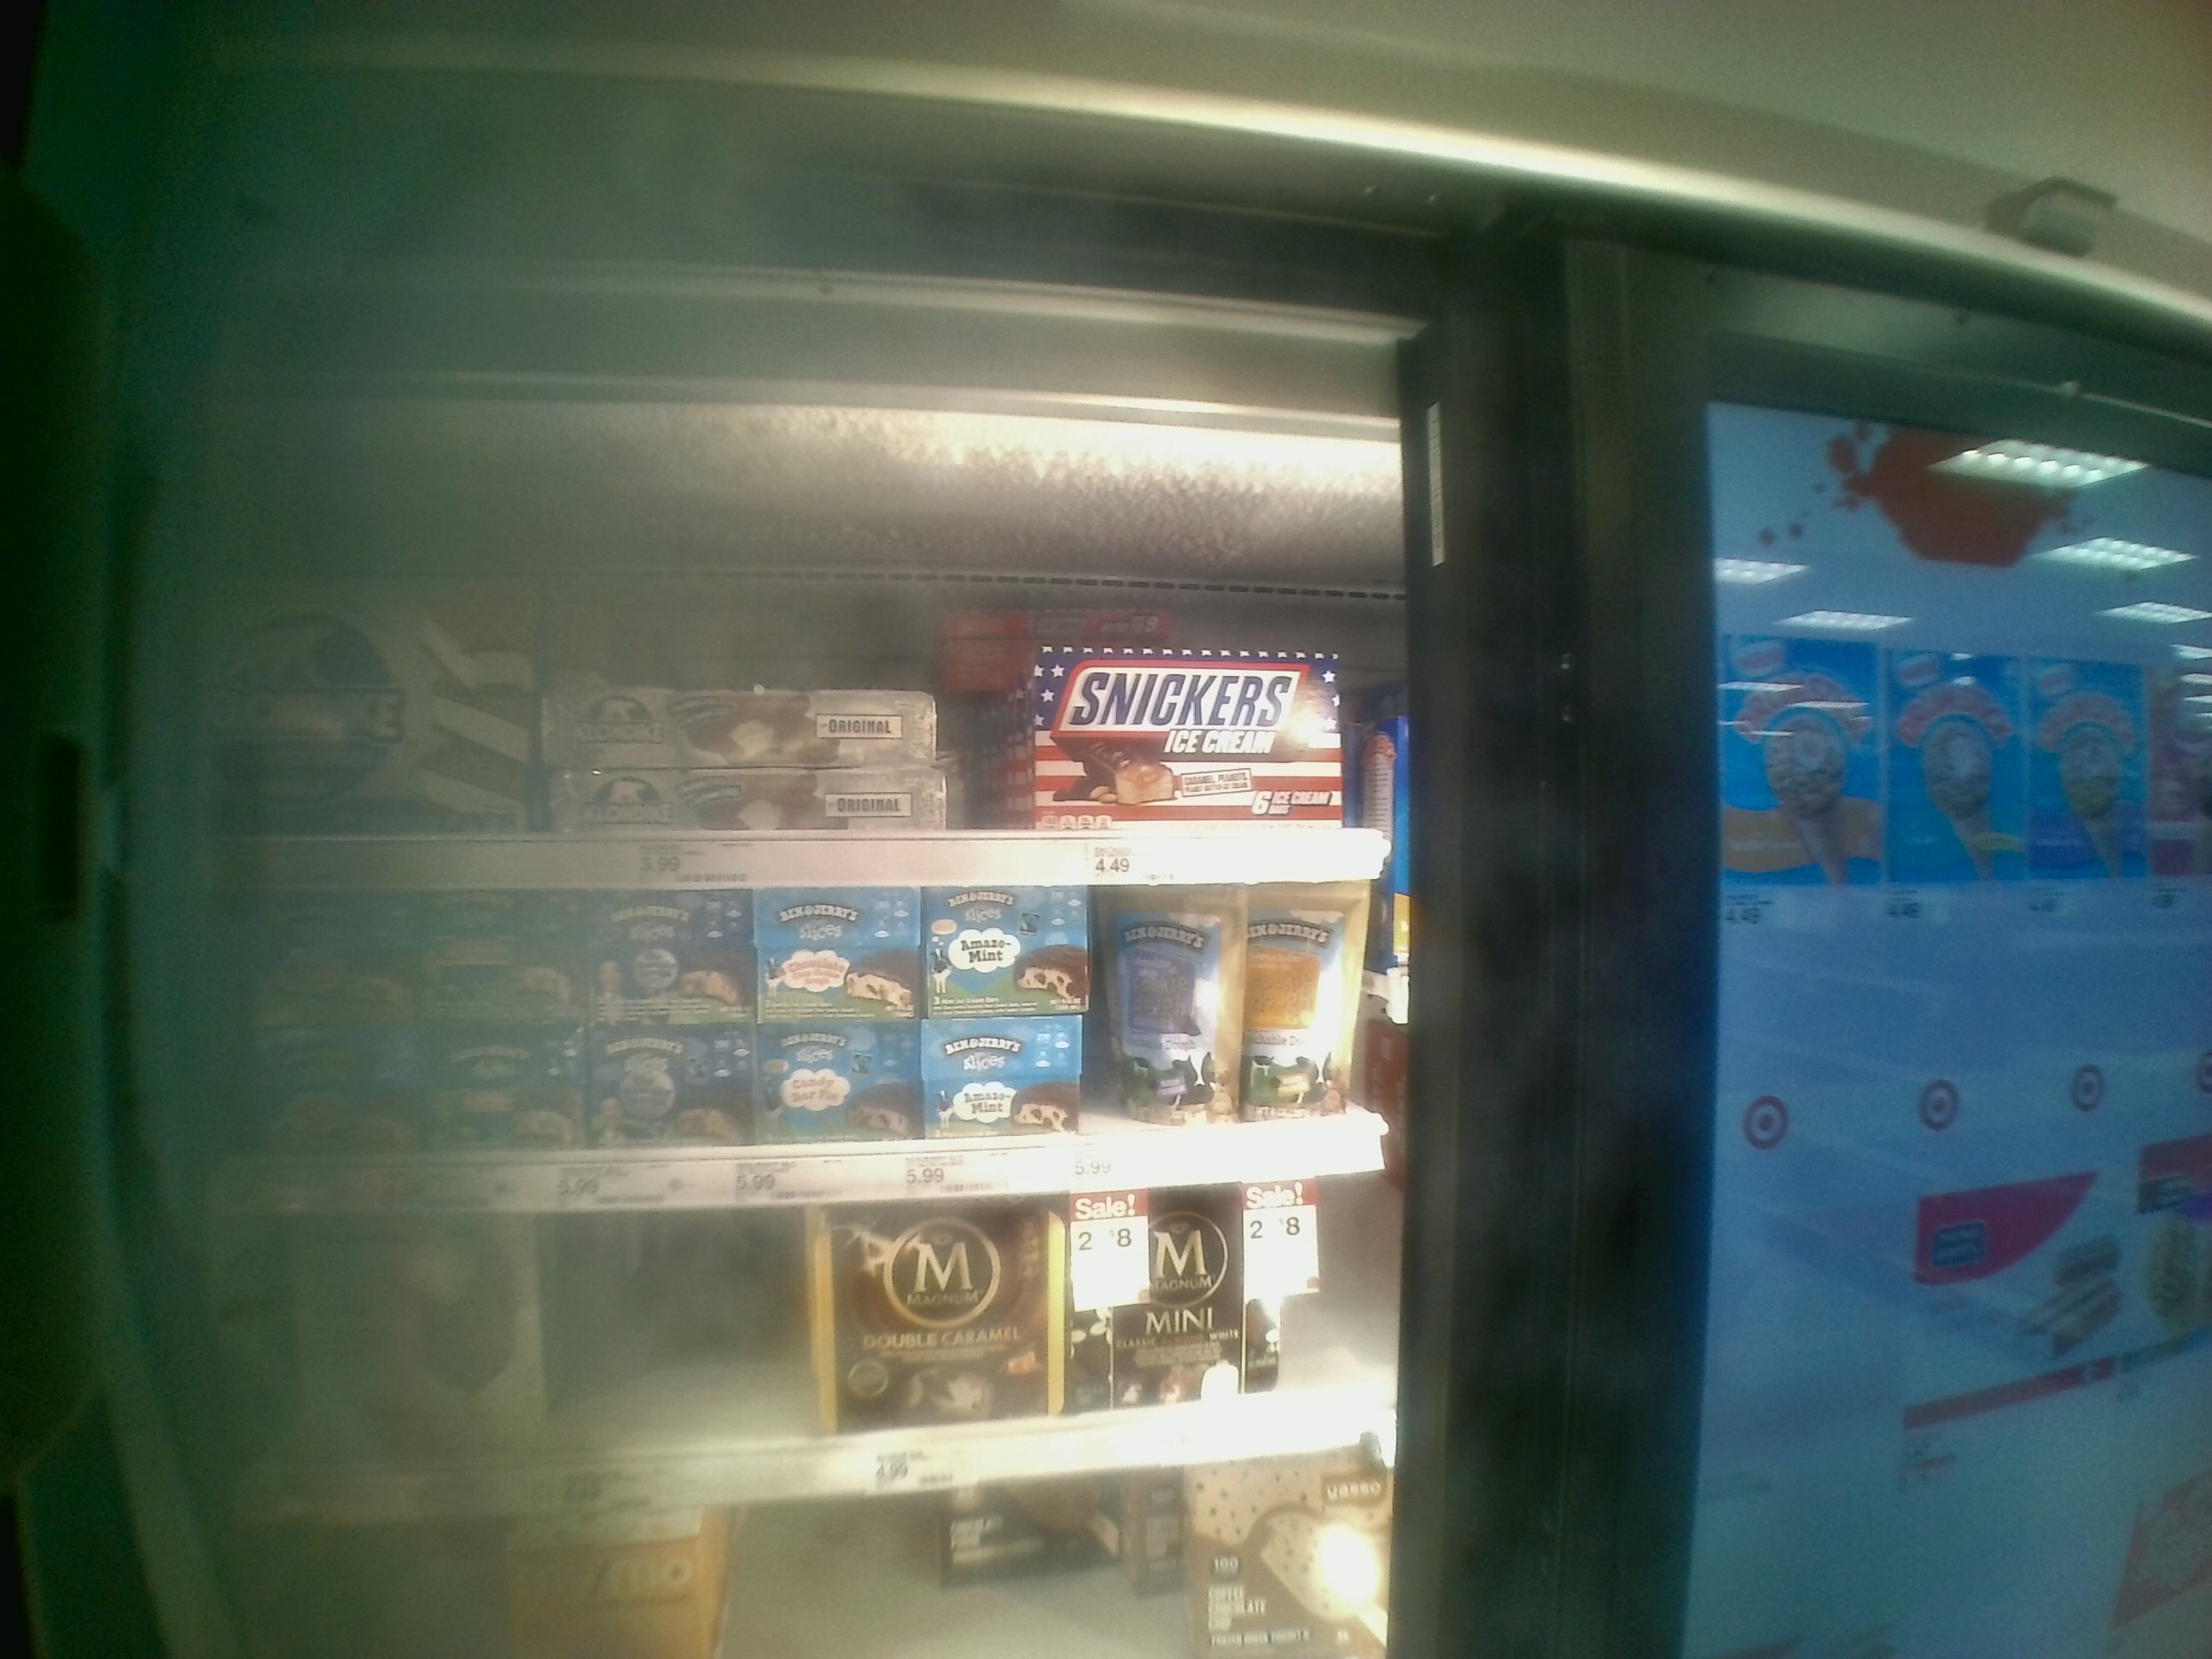ice-cream-shelf: (150, 476, 1404, 894), (150, 903, 1413, 1213)
